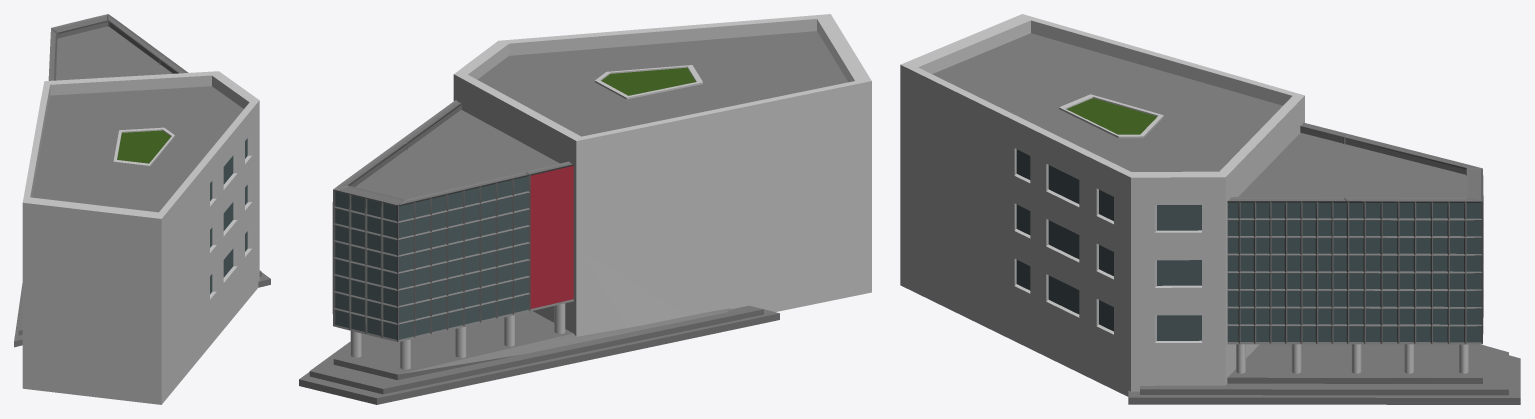
File: oficinas.dae
3 views of the same model, side by side, from view 1: azimuth 30°, elevation 25°; view 2: azimuth 150°, elevation 25°; view 3: azimuth 270°, elevation 25° (orthographic). The views are drawn at different scales.
Visible parts, largest first — view 1: cube_023; view 2: cube_023; view 3: cube_023.
Boxes of the visible parts, x1,y1,x2,y2 form: cube_023: (14, 14, 270, 404); cube_023: (299, 14, 871, 404); cube_023: (900, 14, 1520, 404).
Bounding box in the file's own units: 341 × 525 × 206.
